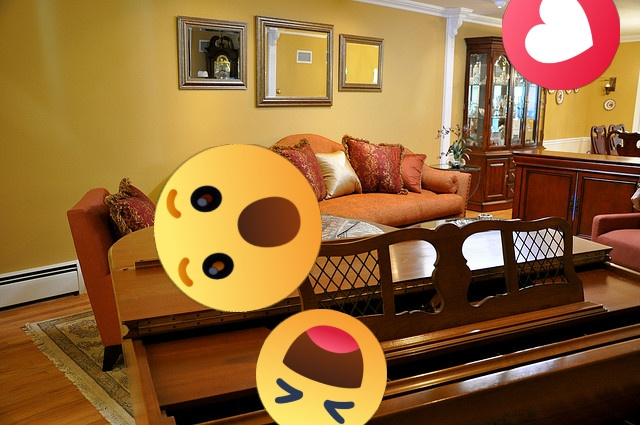haha: (256, 309, 387, 425)
love: (502, 0, 620, 90)
wow: (154, 144, 322, 312)
